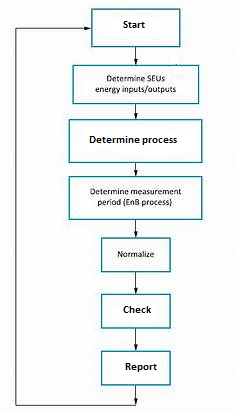arrow: (11, 24, 137, 408), (131, 271, 140, 296), (132, 45, 141, 69), (132, 384, 141, 407), (132, 217, 141, 238), (132, 328, 140, 351), (132, 161, 141, 178), (132, 102, 139, 122)
process: (66, 117, 204, 165), (67, 175, 206, 221), (71, 63, 202, 107), (89, 6, 182, 50), (99, 348, 174, 388), (99, 236, 174, 274), (99, 292, 172, 330)
text: (88, 187, 186, 208), (92, 73, 177, 95), (87, 134, 179, 146), (122, 304, 155, 317), (123, 360, 158, 372), (115, 249, 157, 259), (120, 20, 147, 30)
